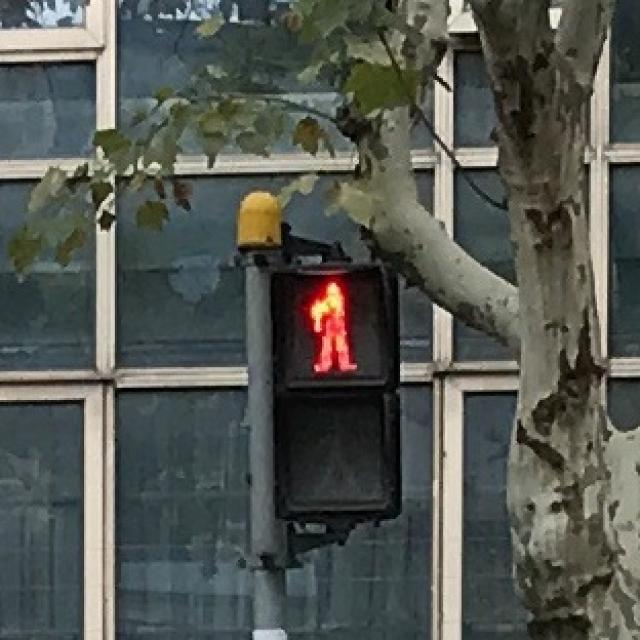red_light: (277, 269, 379, 377)
